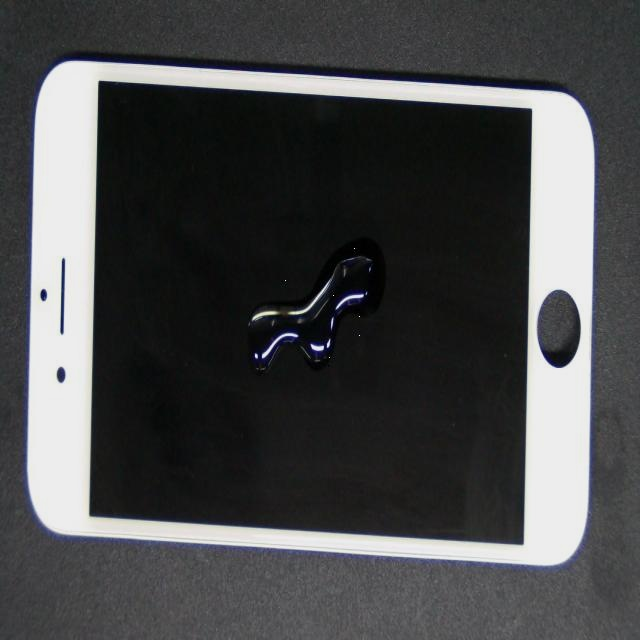oil: (179, 151, 430, 465)
